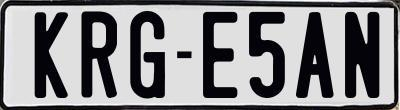5: (249, 10, 290, 97)
A: (296, 11, 335, 101)
E: (202, 9, 240, 100)
G: (127, 10, 165, 102)
K: (35, 10, 68, 100)
N: (342, 10, 381, 96)
R: (79, 11, 116, 103)
